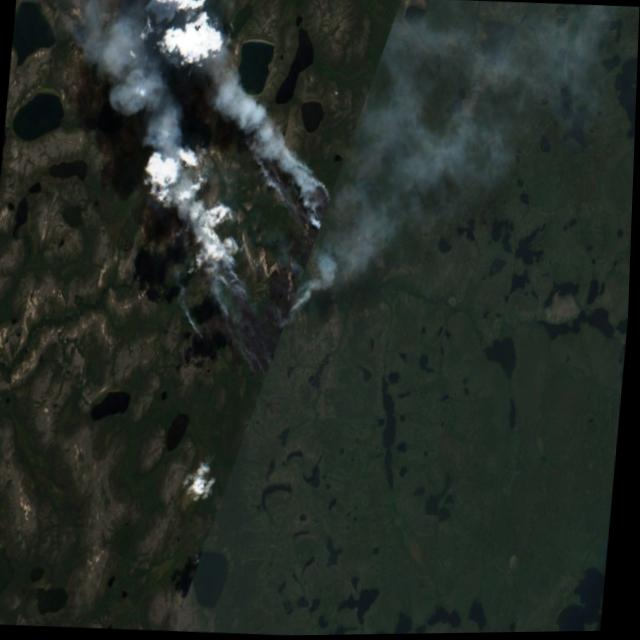fire: (209, 249, 265, 340), (280, 284, 316, 332), (192, 318, 209, 353)
